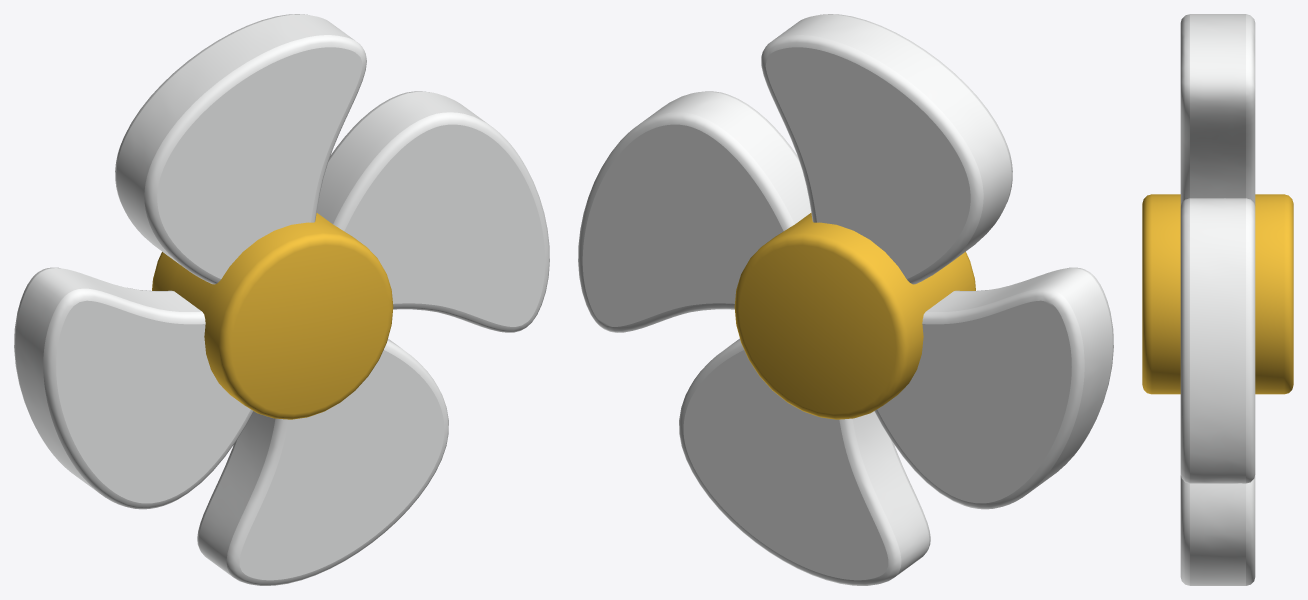
The model's file is FanProp.FBX.
3 views of the same model, side by side, from view 1: azimuth 30°, elevation 25°; view 2: azimuth 150°, elevation 25°; view 3: azimuth 270°, elevation 25° (orthographic).
Visible parts, largest first — view 1: 空白_1; view 2: 空白_1; view 3: 空白_1.
Part boxes in pixels (box(x1,y1,x2,y2)): 空白_1: box(14, 14, 549, 585); 空白_1: box(578, 14, 1113, 585); 空白_1: box(1142, 14, 1293, 585).
Size of the model in its own units: 3.09 by 3.16 by 0.8.
